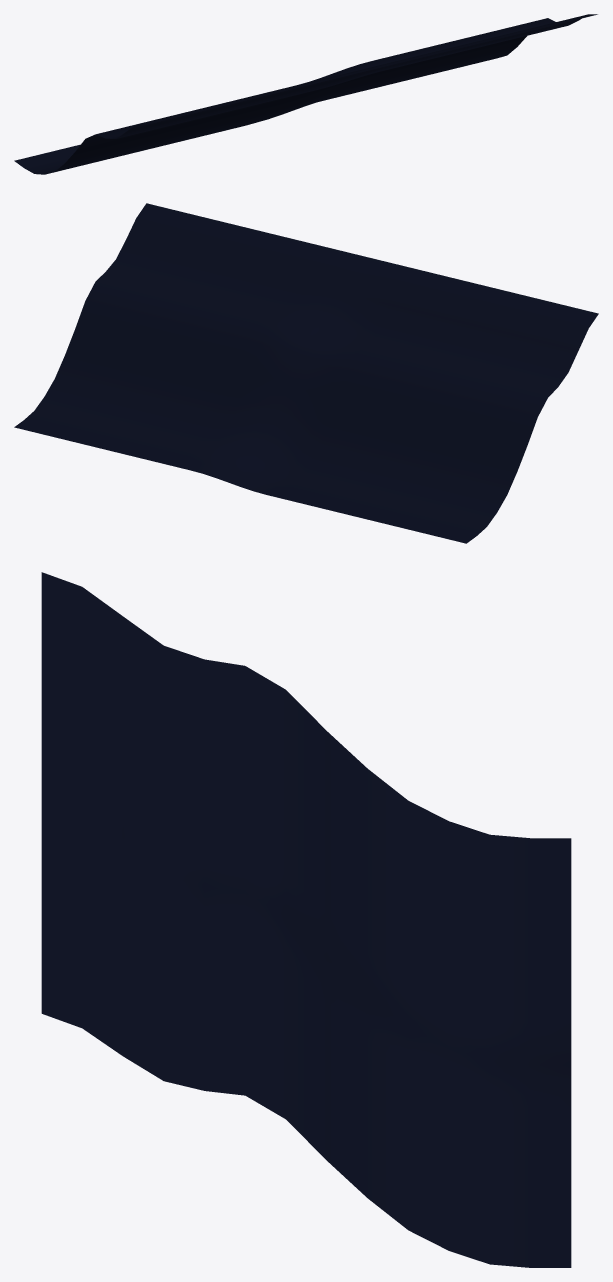
Rendered from Waterfall.FBX.
3 renders of one model, top to bottom at view 1: azimuth 30°, elevation 25°; view 2: azimuth 150°, elevation 25°; view 3: azimuth 270°, elevation 25°, orthographic. The views are drawn at different scales.
Visible parts, largest first — view 1: Waterfall 1; view 2: Waterfall 1; view 3: Waterfall 1.
Part boxes in pixels (x1,y1,x2,y2): Waterfall 1: (14, 14, 597, 174); Waterfall 1: (14, 203, 598, 543); Waterfall 1: (41, 572, 571, 1267).
Bounding box in the file's own units: 124 × 34.94 × 63.05.
